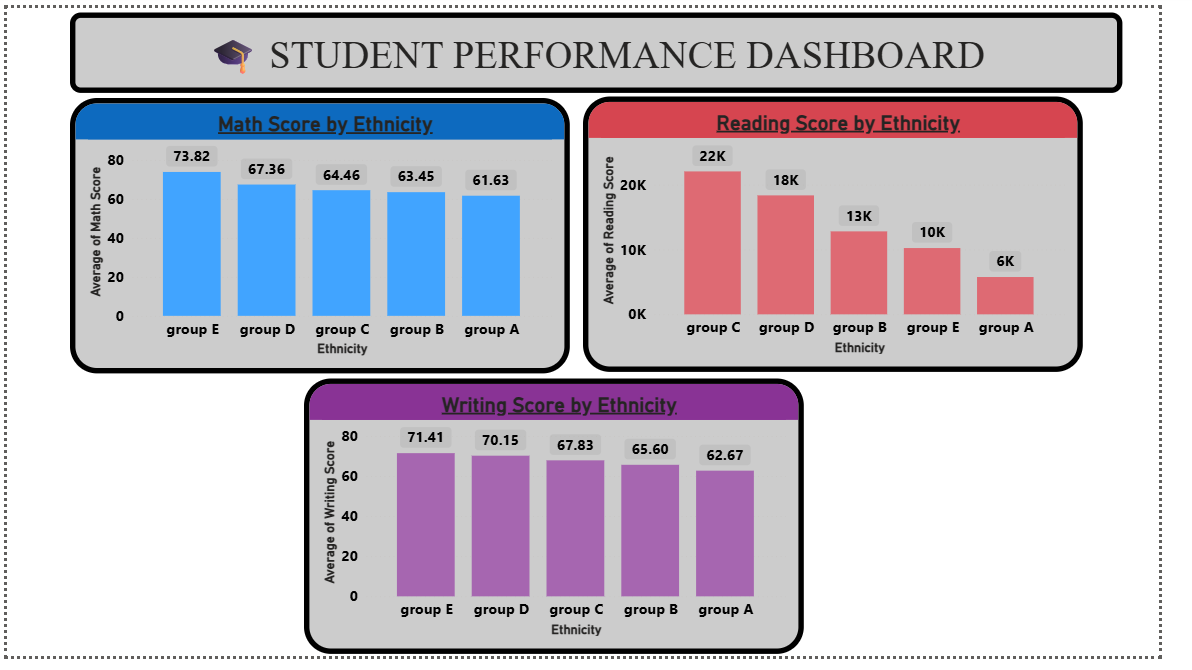

What the dashboard file says about the page in this screenshot:
{"tool":"powerbi","page":{"name":"Page 3","canvas":[1280,720],"ordinal":2},"visuals":[{"type":"columnChart","title":"Math Score by Ethnicity","fields":{"Category":["Sheet1.Ethnicity"],"Y":["Avg(Sheet1.Math Score)"]},"box":[69.6,100.4,555.4,306],"z":0},{"type":"textbox","box":[69.6,4.9,1169.1,89.1],"z":1000},{"type":"columnChart","title":"Reading Score by Ethnicity","fields":{"Category":["Sheet1.Ethnicity"],"Y":["Sum(Sheet1.Reading Score)"]},"box":[639.6,98.8,555.4,306],"z":2000},{"type":"columnChart","title":"Writing Score by Ethnicity","fields":{"Category":["Sheet1.Ethnicity"],"Y":["Avg(Sheet1.Writing Score)"]},"box":[330.3,411.3,555.4,306],"z":3000}]}

Visuals, with their boxes in screenshot pixels (x1, y1, x2, y2), scaled from the page's 1280x720 canvas onto the 1192x670 screenshot:
"Math Score by Ethnicity" columnChart: [65,93,582,378]
textbox: [65,5,1154,87]
"Reading Score by Ethnicity" columnChart: [596,92,1113,377]
"Writing Score by Ethnicity" columnChart: [308,383,825,667]
